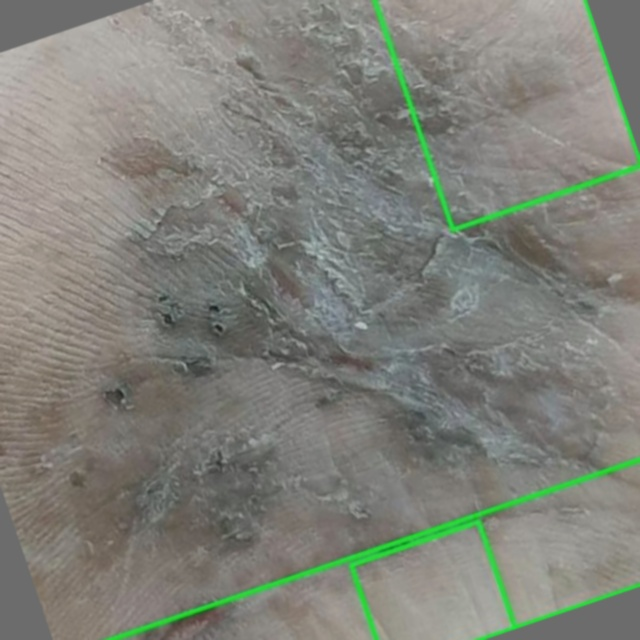Eczema: (374, 0, 639, 229), (351, 521, 515, 639)
